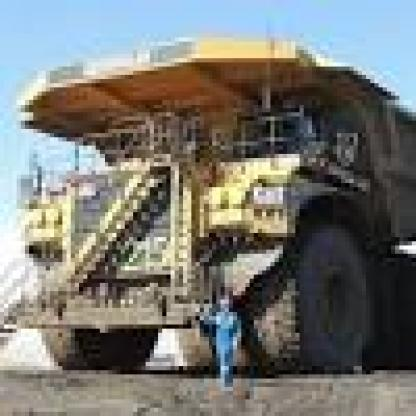dump_truck: (12, 34, 412, 400)
